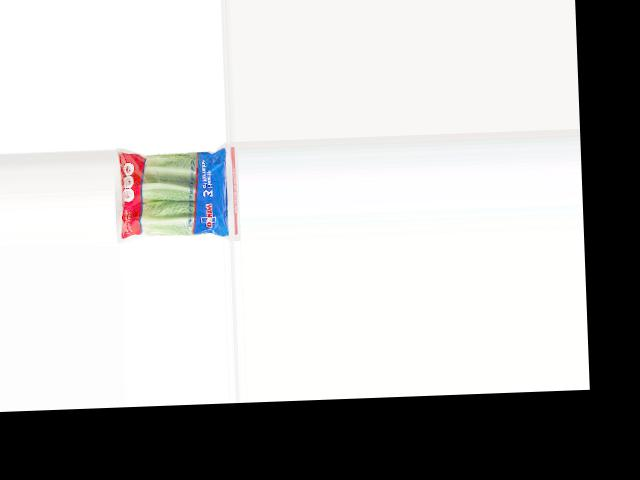lettuce: (113, 146, 234, 245)
